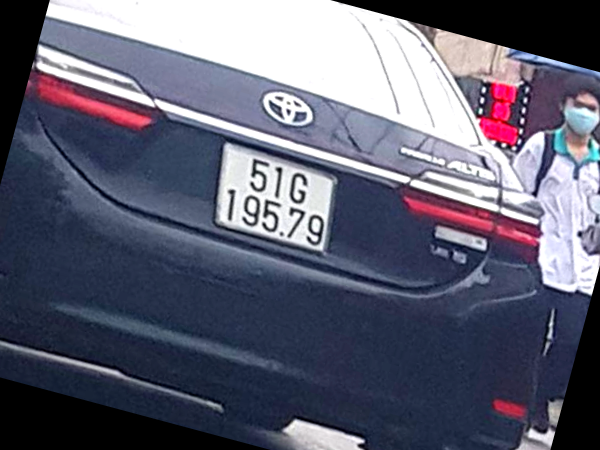lisence: (212, 142, 338, 256)
